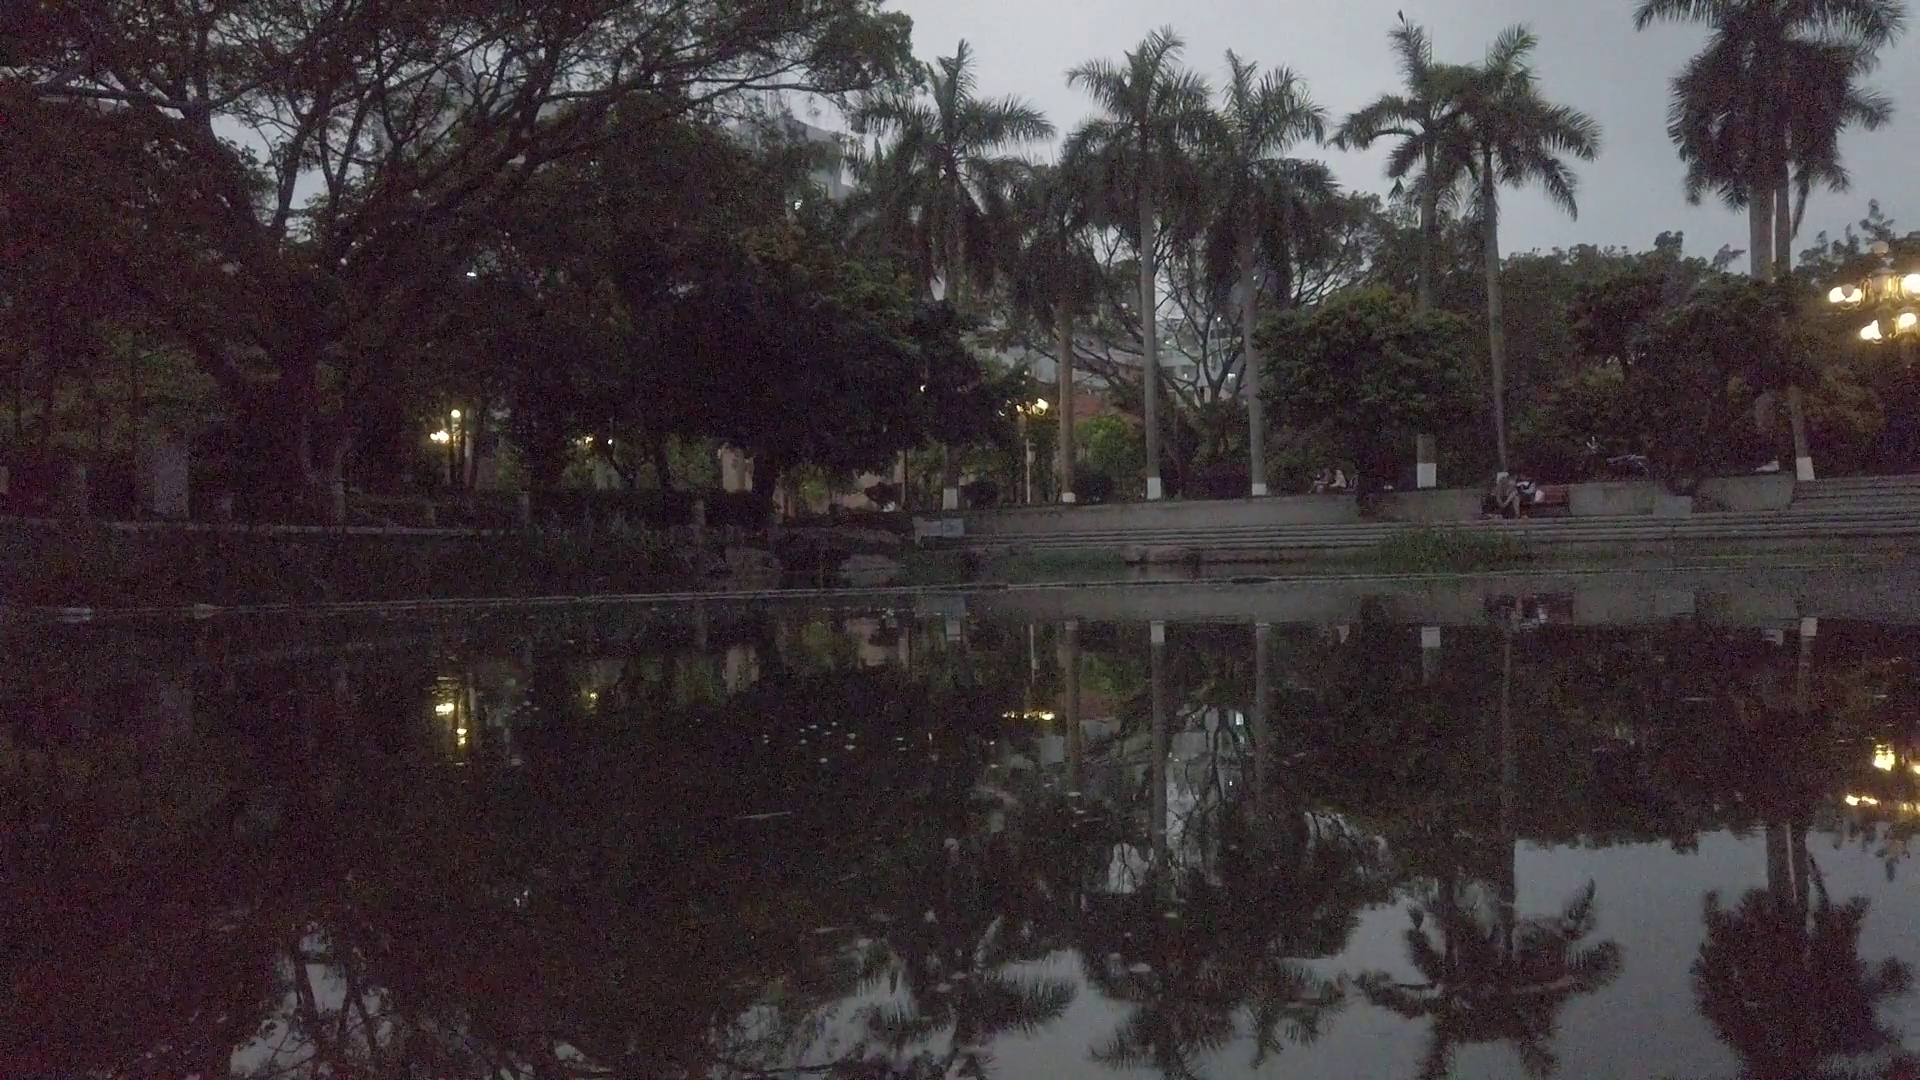bottle: (59, 607, 91, 618)
